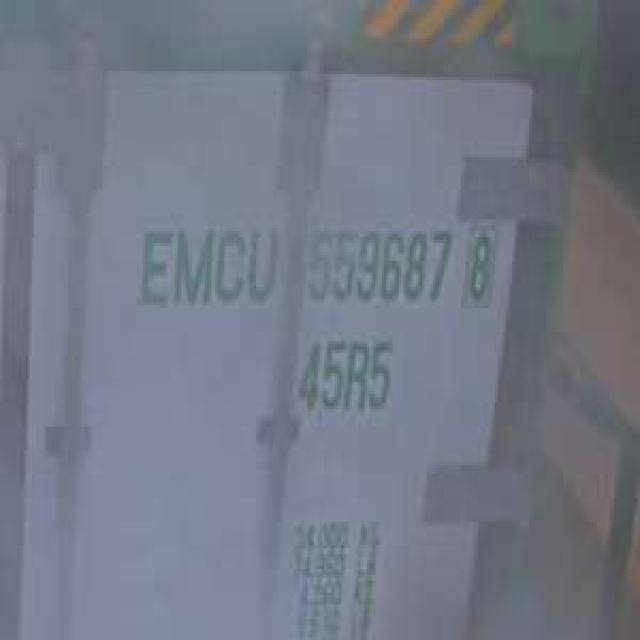dv: (463, 222, 499, 305)
owner: (130, 213, 282, 314)
serial: (301, 219, 452, 311)
size: (290, 329, 399, 418)
